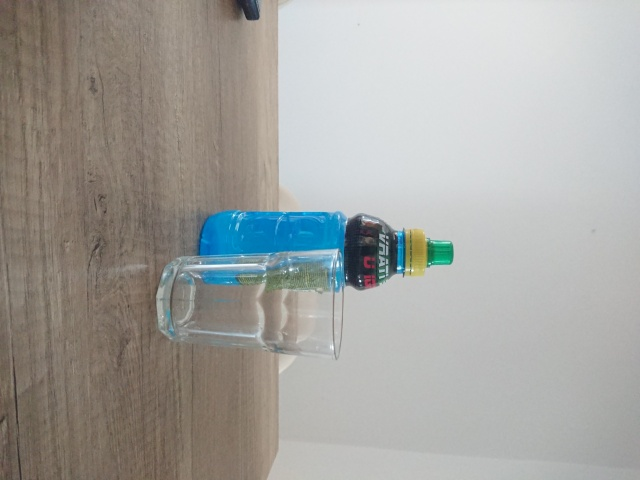Vindi Iso Sport Forest Strawberries 500mL: (197, 208, 455, 295)
